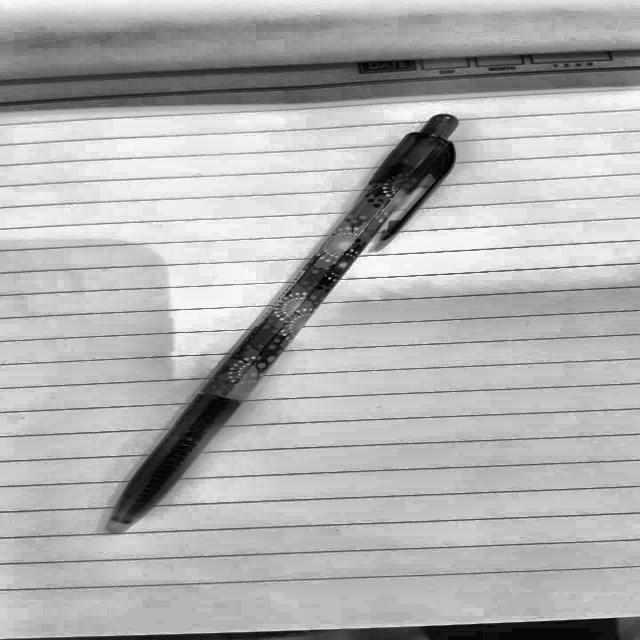Pen: (61, 103, 527, 541)
